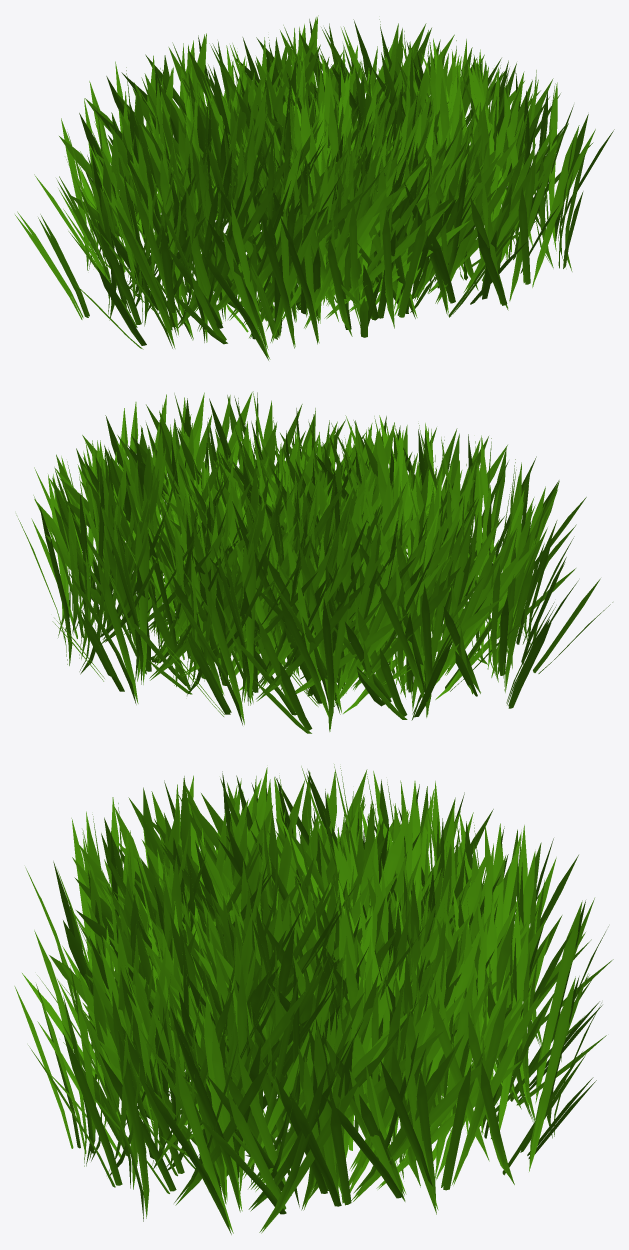
The model's file is grass_weed_model.gltf.
3 renders of one model, top to bottom at view 1: azimuth 30°, elevation 25°; view 2: azimuth 150°, elevation 25°; view 3: azimuth 270°, elevation 25°, orthographic. The views are drawn at different scales.
Parts seen in each view (by area): view 1: grass_weed_module_1; view 2: grass_weed_module_1; view 3: grass_weed_module_1.
Boxes of the visible parts, left/top/right/bottom form: grass_weed_module_1: left=15, top=15, right=614, bottom=360; grass_weed_module_1: left=16, top=391, right=612, bottom=733; grass_weed_module_1: left=14, top=764, right=613, bottom=1234.
Size of the model in its own units: 26.71 by 10.07 by 20.82.
Materials: 1 (1 with a texture image).
